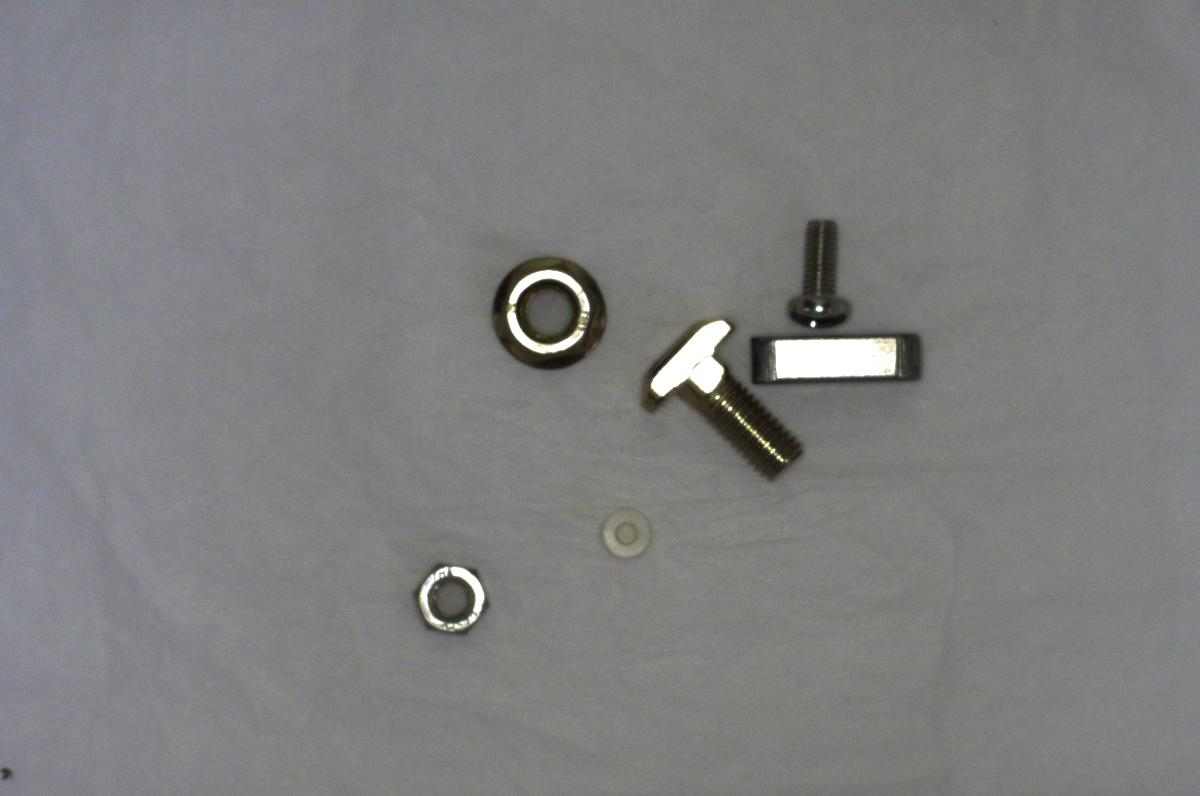Flange nut: (479, 239, 616, 380)
Hexagon nut: (406, 549, 492, 644)
Keybar: (737, 322, 929, 390)
Plastic cushion pillar: (594, 498, 664, 560)
Round head screw: (779, 210, 858, 337)
T-shaped screw: (637, 313, 806, 481)
